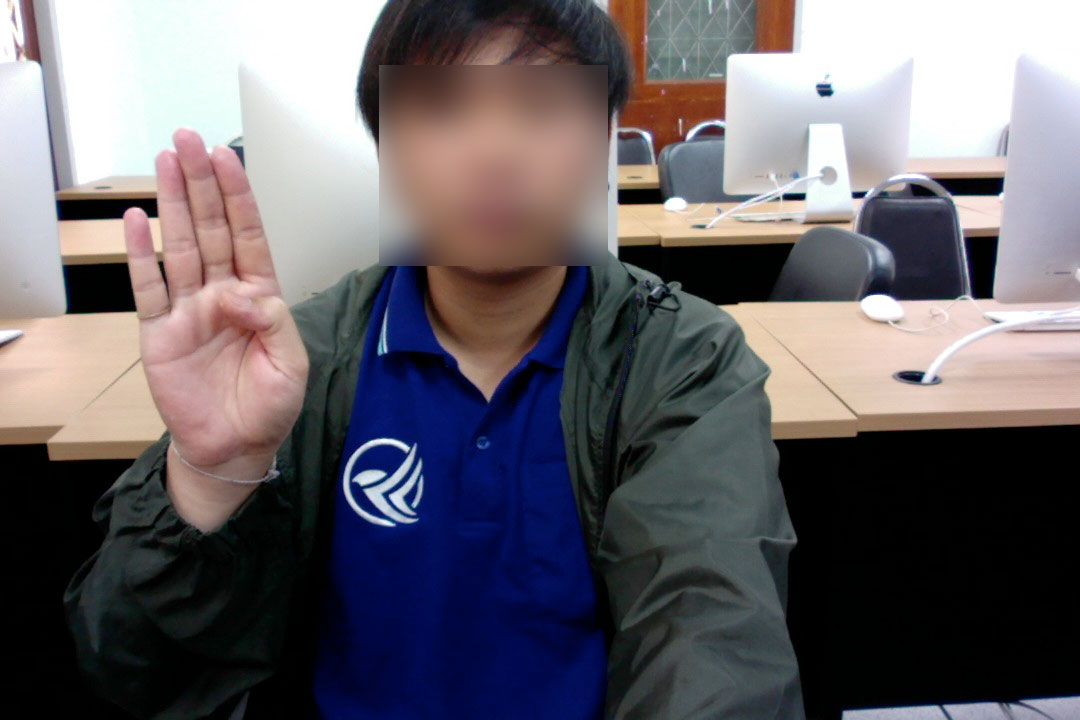bor: (117, 118, 314, 510)
